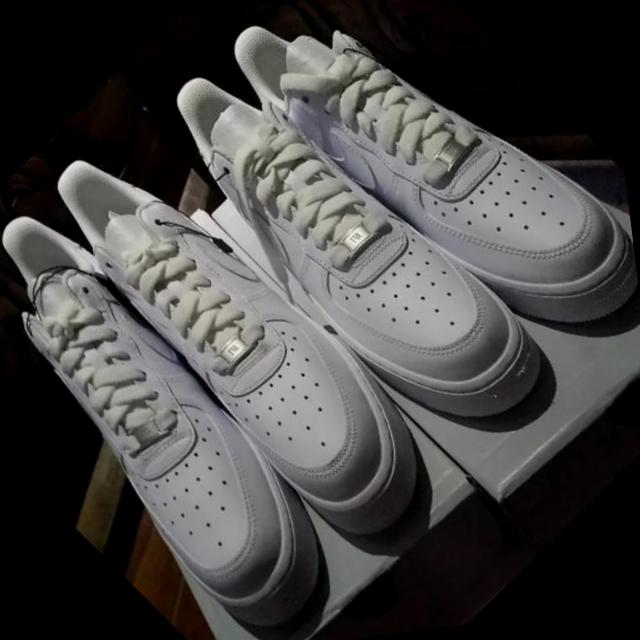nike_original_airforce: (6, 81, 467, 593), (117, 0, 580, 500), (0, 161, 390, 640), (211, 0, 640, 418)
